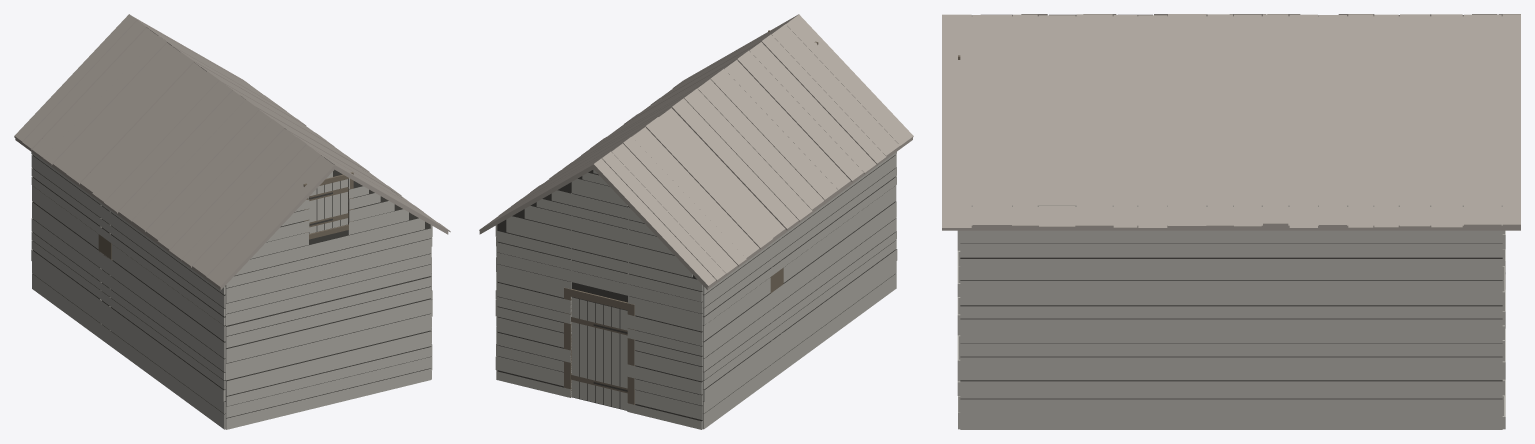
The model's file is recon_1835_west_037__inferred_1835.glb.
3 renders of one model, left to right at view 1: azimuth 30°, elevation 25°; view 2: azimuth 150°, elevation 25°; view 3: azimuth 270°, elevation 25°, orthographic. The views are drawn at different scales.
Parts seen in each view (by area): view 1: recon_1835_west_037__inferred_1835; view 2: recon_1835_west_037__inferred_1835; view 3: recon_1835_west_037__inferred_1835.
Part boxes in pixels (box(x1,y1,x2,y2)): recon_1835_west_037__inferred_1835: box(14, 14, 450, 429); recon_1835_west_037__inferred_1835: box(479, 14, 913, 429); recon_1835_west_037__inferred_1835: box(942, 14, 1520, 429).
Size of the model in its own units: 5.5 by 5.56 by 8.46.
